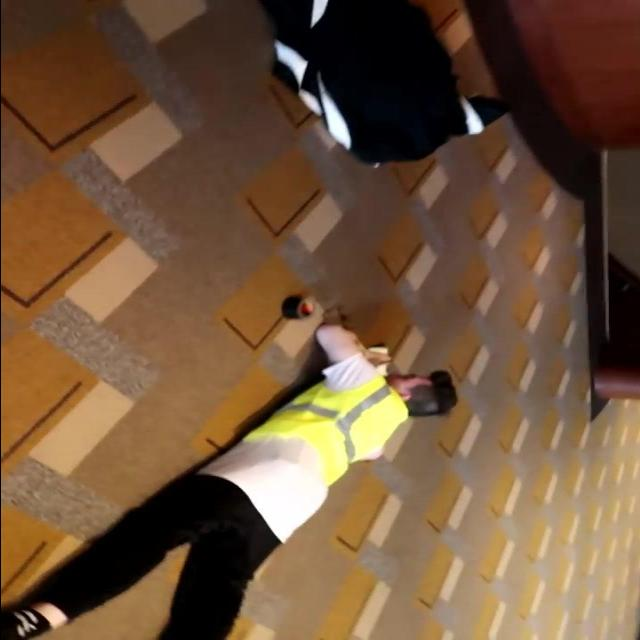jacket: (242, 372, 416, 483)
